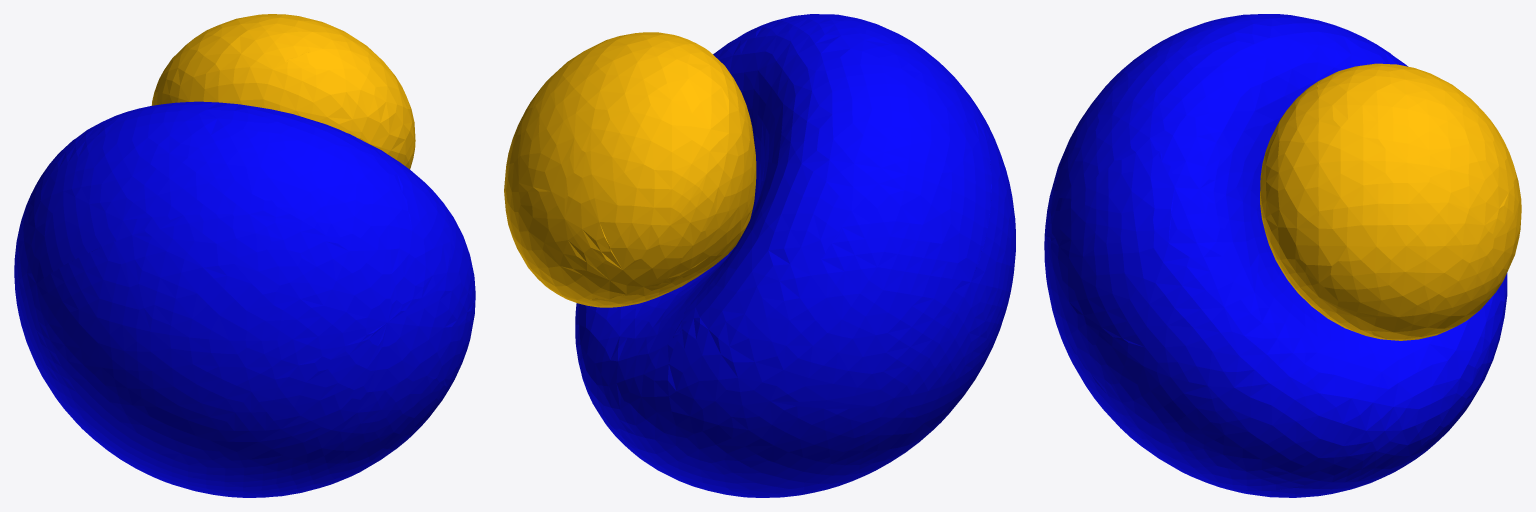
The picture shows the model from 3 angles, left to right: view 1: azimuth 30°, elevation 25°; view 2: azimuth 150°, elevation 25°; view 3: azimuth 270°, elevation 25°; orthographic projection. The views are drawn at different scales.
Size of the model in its own units: 11.84 by 11.83 by 11.83.
